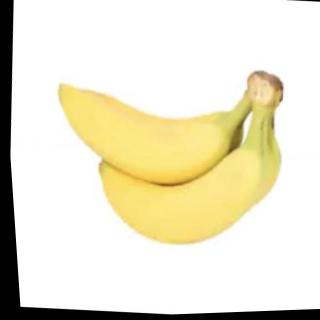banana: (84, 129, 286, 257), (45, 76, 250, 197)
